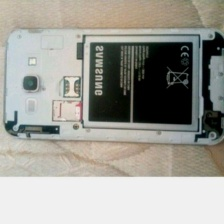phone: (0, 22, 224, 145)
